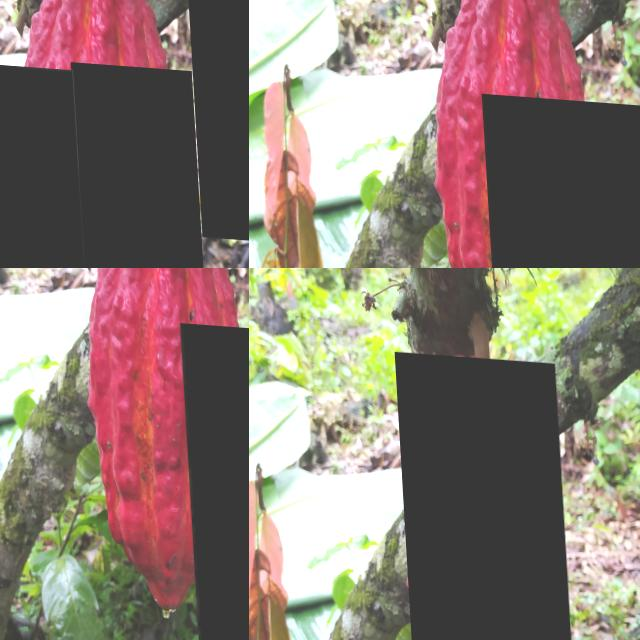Monilia: (478, 89, 640, 268)
Sana: (393, 348, 573, 640), (67, 58, 203, 268), (176, 318, 249, 640), (0, 59, 81, 268), (184, 0, 249, 237)
